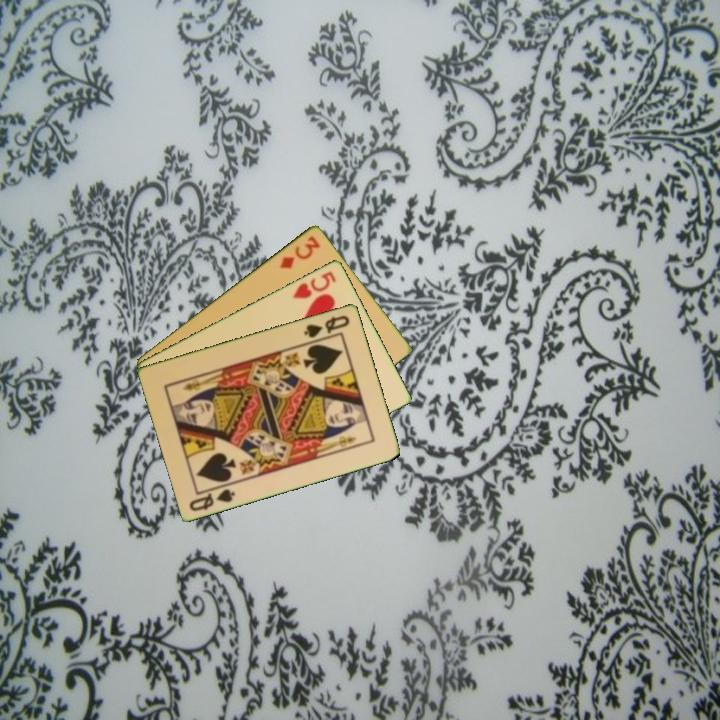3d: (276, 232, 323, 271)
5h: (289, 267, 339, 301)
Qs: (186, 480, 238, 514), (300, 311, 353, 340)
